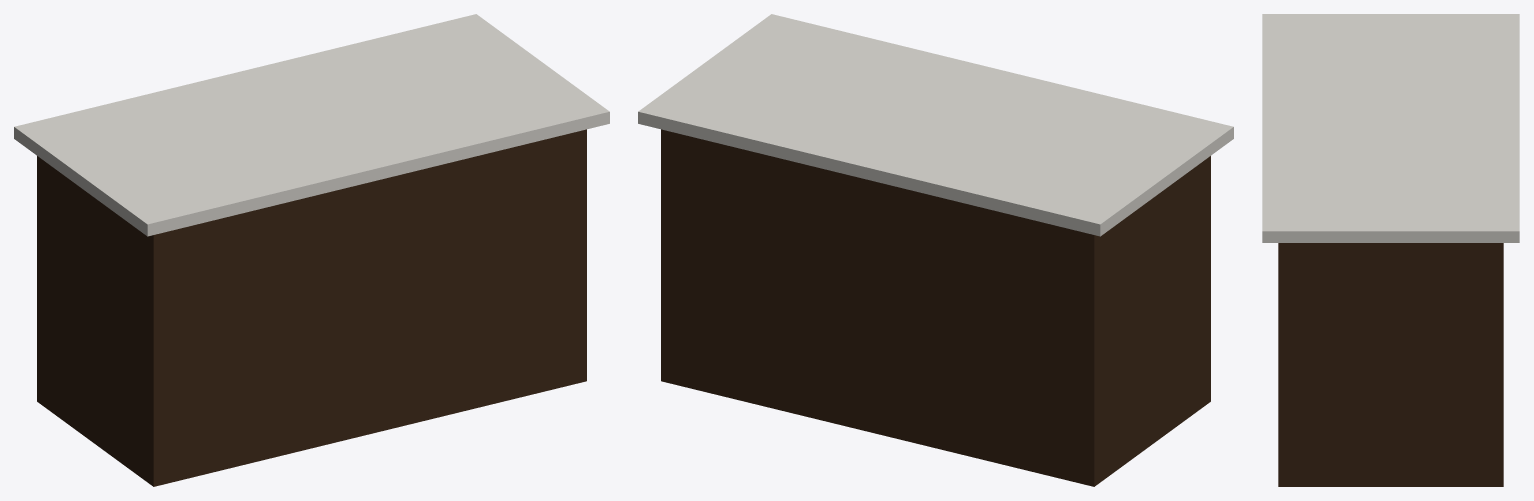
The model's file is kitchenisland-lite.glb.
3 renders of one model, left to right at view 1: azimuth 30°, elevation 25°; view 2: azimuth 150°, elevation 25°; view 3: azimuth 270°, elevation 25°, orthographic. The views are drawn at different scales.
Parts seen in each view (by area): view 1: material-0-body, material-1-top; view 2: material-0-body, material-1-top; view 3: material-1-top, material-0-body.
Boxes of the visible parts, x1,y1,x2,y2 form: material-0-body: (37,129,586,486); material-1-top: (14,14,609,236); material-0-body: (661,129,1210,486); material-1-top: (638,14,1233,236); material-1-top: (1262,14,1519,242); material-0-body: (1278,243,1503,486).
Size of the model in its own units: 1.6 by 0.9 by 0.8.
